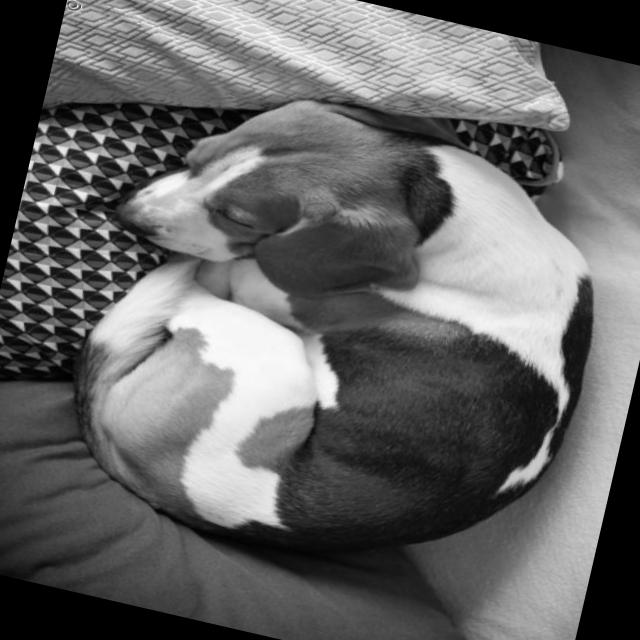laying down: (29, 38, 640, 640)
